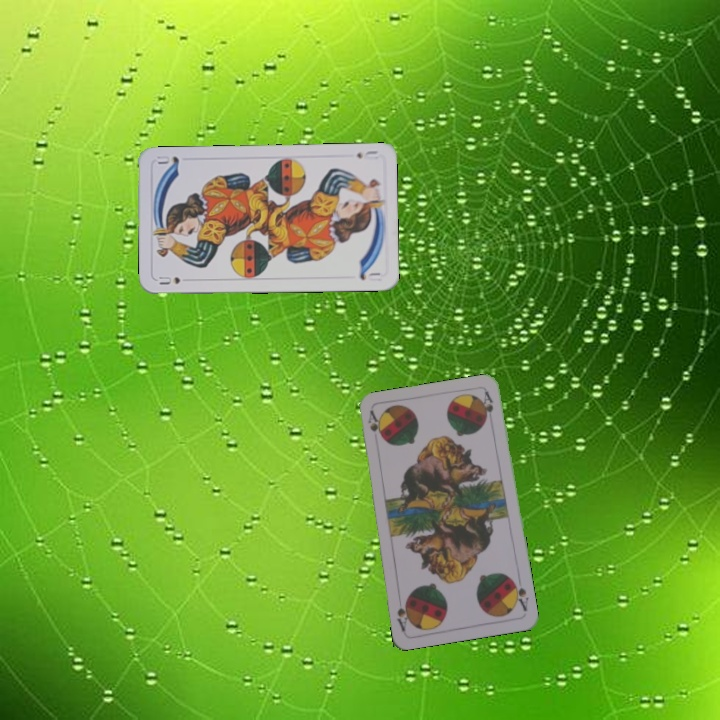SA: (508, 574, 531, 613), (364, 407, 382, 437)
SU: (352, 146, 380, 162), (154, 272, 182, 287)
